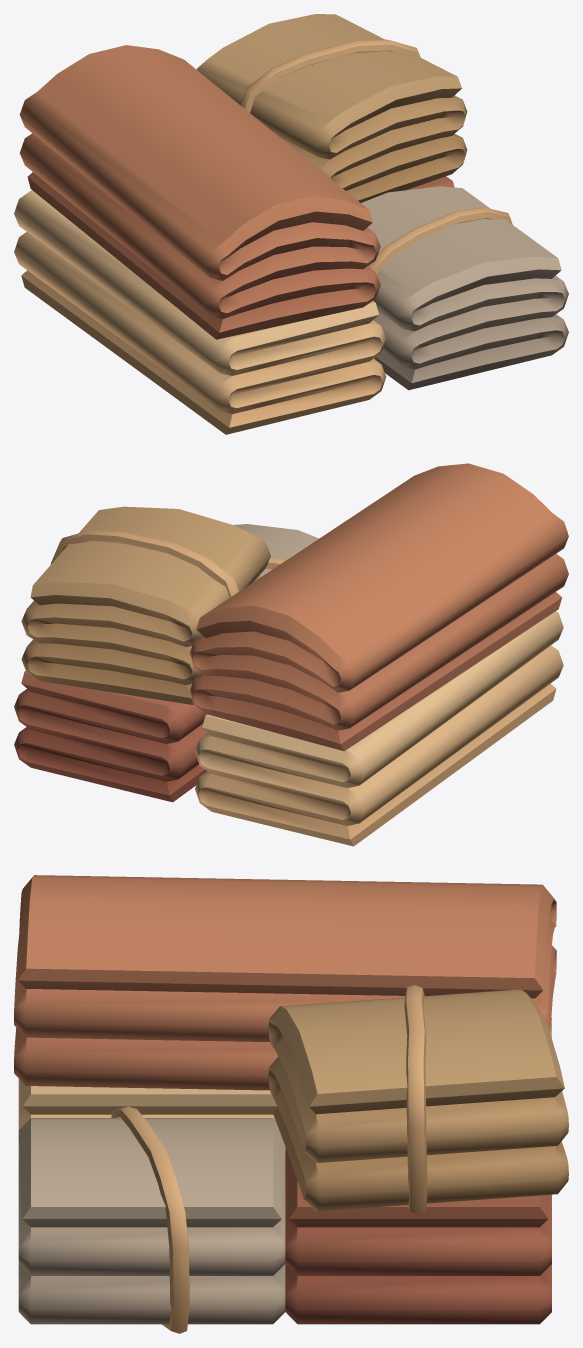
File: textiles_stack_large.glb
3 renders of one model, top to bottom at view 1: azimuth 30°, elevation 25°; view 2: azimuth 150°, elevation 25°; view 3: azimuth 270°, elevation 25°, orthographic. The views are drawn at different scales.
Visible parts, largest first — view 1: Textiles_Stack_Large; view 2: Textiles_Stack_Large; view 3: Textiles_Stack_Large.
Part boxes in pixels (bbox=[...]): Textiles_Stack_Large: bbox=[14, 14, 568, 434]; Textiles_Stack_Large: bbox=[14, 463, 568, 846]; Textiles_Stack_Large: bbox=[14, 875, 568, 1333].
Bounding box in the file's own units: 0.9834 × 0.5733 × 0.999.
Materials: 1 (1 with a texture image).
